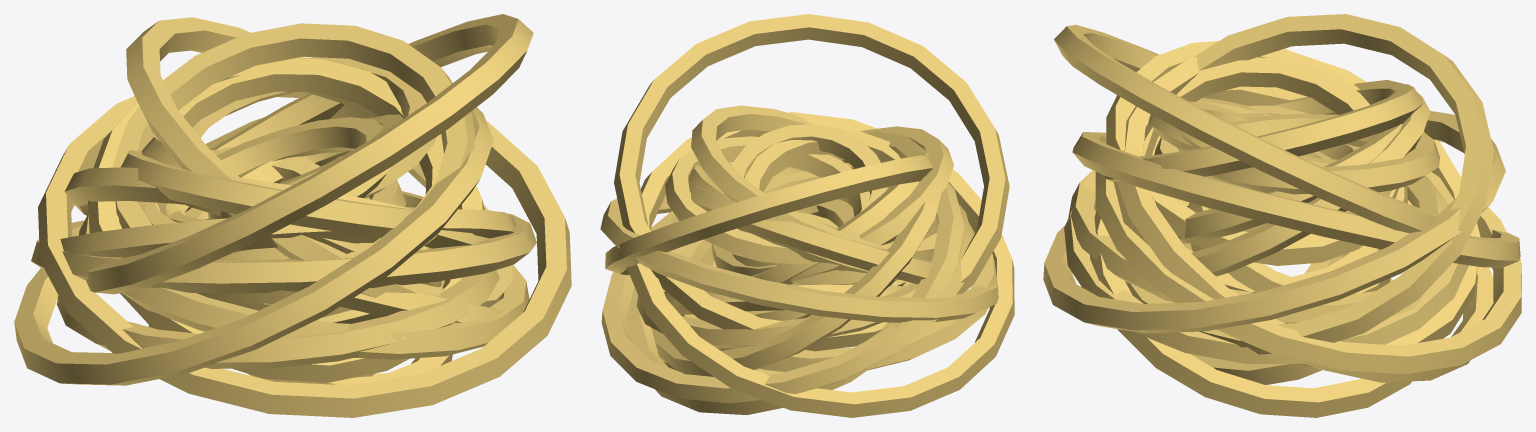
File: Noodles.fbx
3 views of the same model, side by side, from view 1: azimuth 30°, elevation 25°; view 2: azimuth 150°, elevation 25°; view 3: azimuth 270°, elevation 25° (orthographic). The views are drawn at different scales.
Visible parts, largest first — view 1: Noodles; view 2: Noodles; view 3: Noodles.
Part boxes in pixels (x1,y1,x2,y2): Noodles: (14, 14, 571, 417); Noodles: (600, 14, 1014, 417); Noodles: (1043, 14, 1521, 417).
Bounding box in the file's own units: 0.0884 × 0.0638 × 0.0853.
